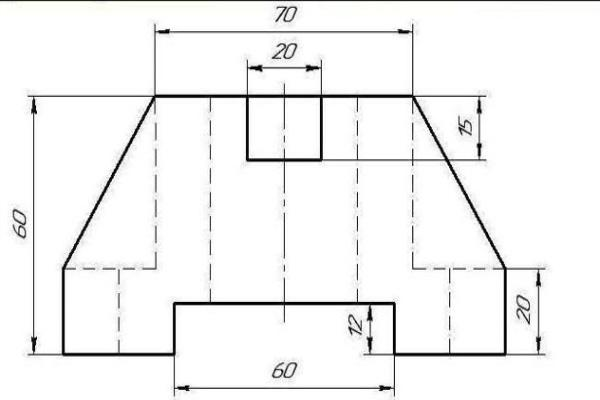dimensions: (261, 354, 311, 387), (265, 37, 308, 66), (4, 200, 32, 244), (451, 107, 482, 145), (511, 288, 537, 332), (266, 0, 305, 29), (342, 309, 367, 342)
